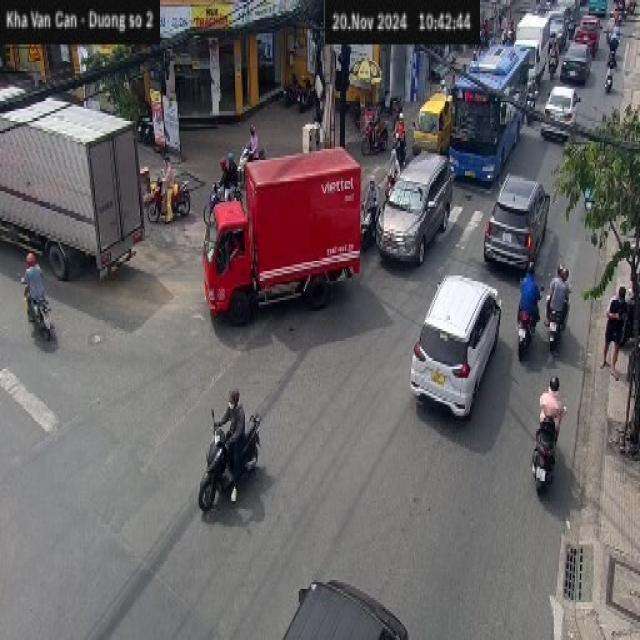car: (406, 271, 504, 427), (272, 562, 425, 640)
motorcycle: (195, 409, 264, 515), (144, 174, 192, 224), (22, 288, 57, 347), (534, 414, 556, 506), (516, 295, 540, 367)
person: (600, 283, 630, 378), (222, 381, 247, 444), (542, 371, 566, 432), (20, 250, 47, 304), (518, 260, 544, 312), (162, 153, 175, 194)
truck: (199, 148, 368, 327), (0, 69, 146, 271)
